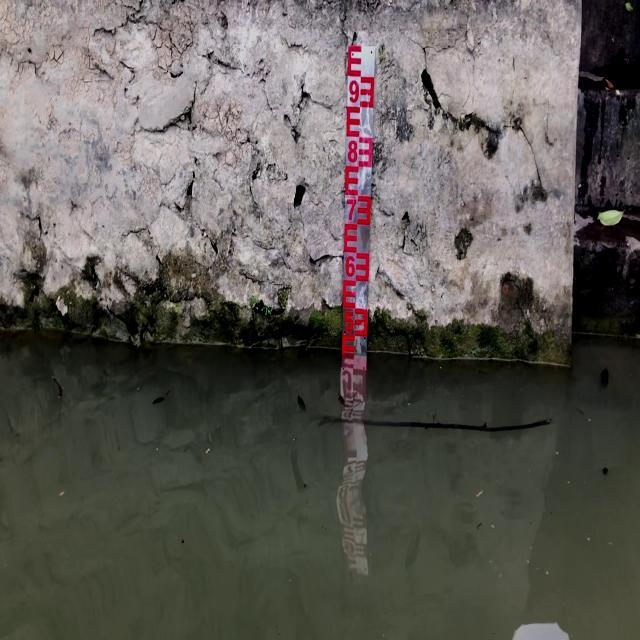ruler: (337, 37, 381, 366)
value: (346, 76, 361, 108), (345, 137, 360, 166), (345, 194, 358, 224), (344, 251, 357, 280), (343, 308, 357, 334)
